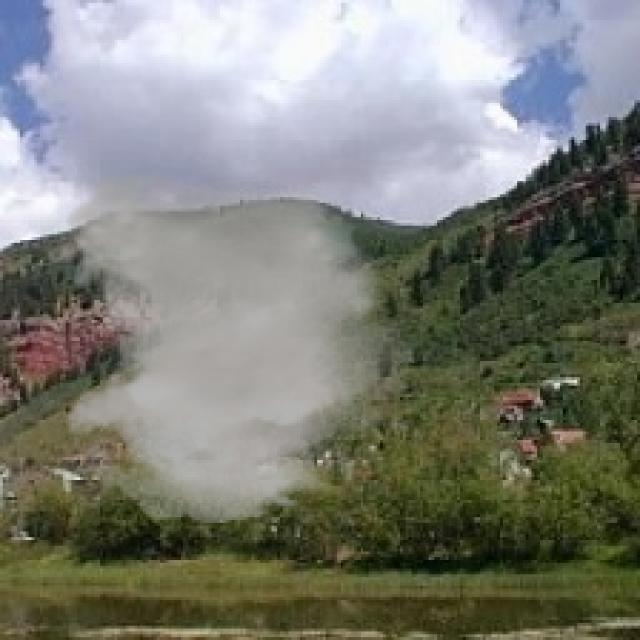smoke: (54, 171, 432, 523)
